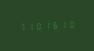one: (57, 19, 64, 30), (25, 21, 32, 31), (41, 20, 48, 30)
seven: (17, 21, 24, 32)
six: (49, 19, 56, 30)
zero: (33, 20, 40, 31), (65, 19, 72, 29)
